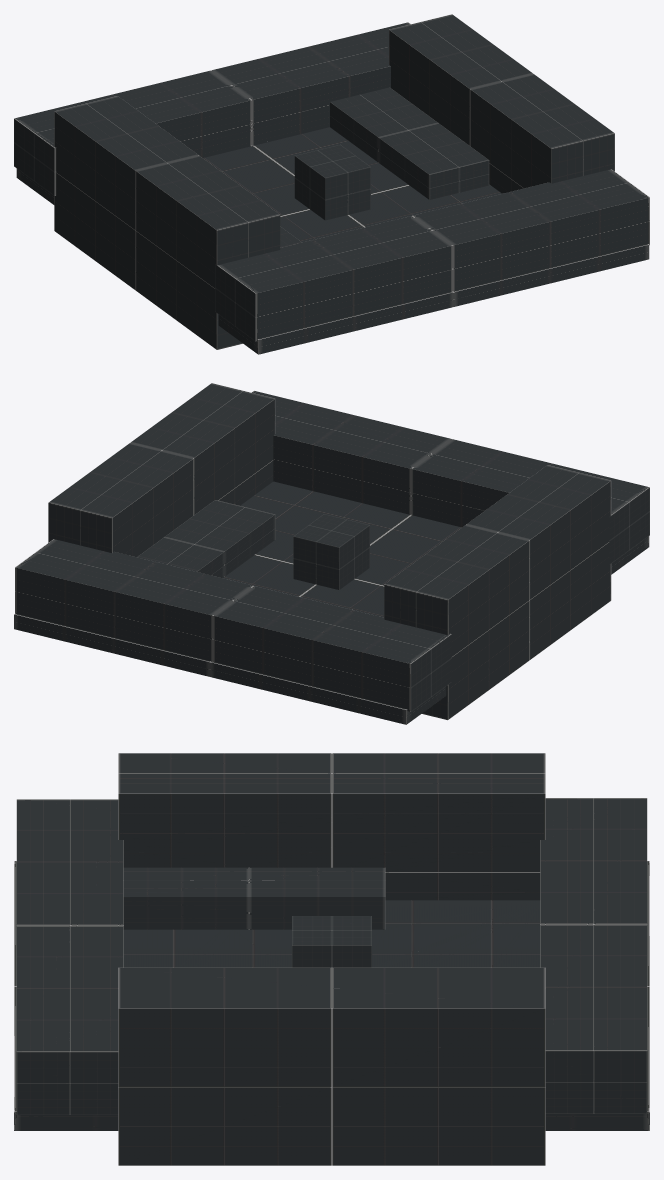
File: level.gltf
3 renders of one model, top to bottom at view 1: azimuth 30°, elevation 25°; view 2: azimuth 150°, elevation 25°; view 3: azimuth 270°, elevation 25°, orthographic. The views are drawn at different scales.
Visible parts, largest first — view 1: CSGCombiner3D2; view 2: CSGCombiner3D2; view 3: CSGCombiner3D2.
Part boxes in pixels (x1,y1,x2,y2): CSGCombiner3D2: (14, 14, 649, 354); CSGCombiner3D2: (14, 383, 649, 724); CSGCombiner3D2: (14, 753, 649, 1165).
Bounding box in the file's own units: 68.1 × 19.5 × 71.4.
1 material, 1 textured.
